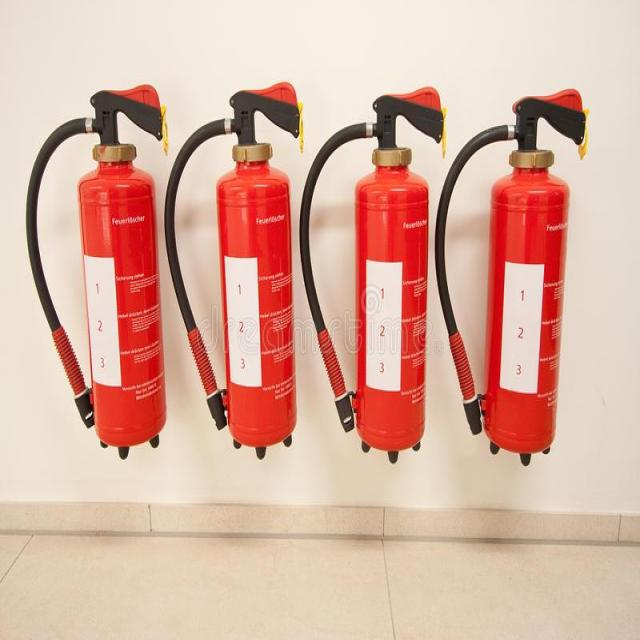fire_extinguisher: (431, 83, 592, 472), (296, 79, 446, 464), (162, 77, 307, 461), (26, 81, 172, 459)
